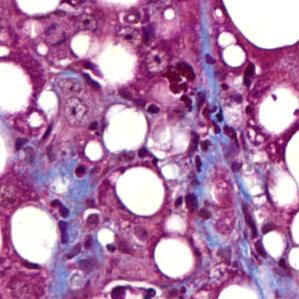steatosis: (117, 168, 166, 216), (155, 235, 195, 278)
